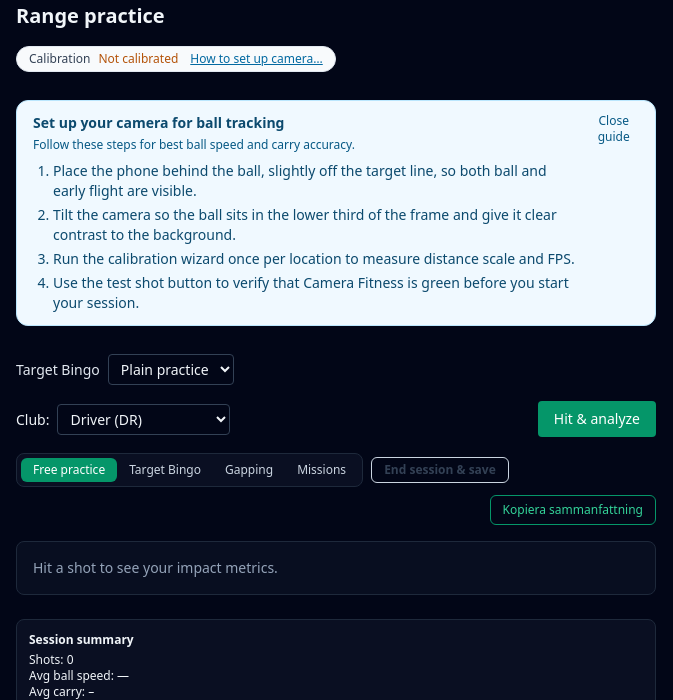
Scenario: Range practice Target Bingo v1 › tracks bingo hits and completed lines
Select "Target Bingo" in the dropdown labelled "Target Bingo" at (171, 370), box [108, 354, 234, 385]
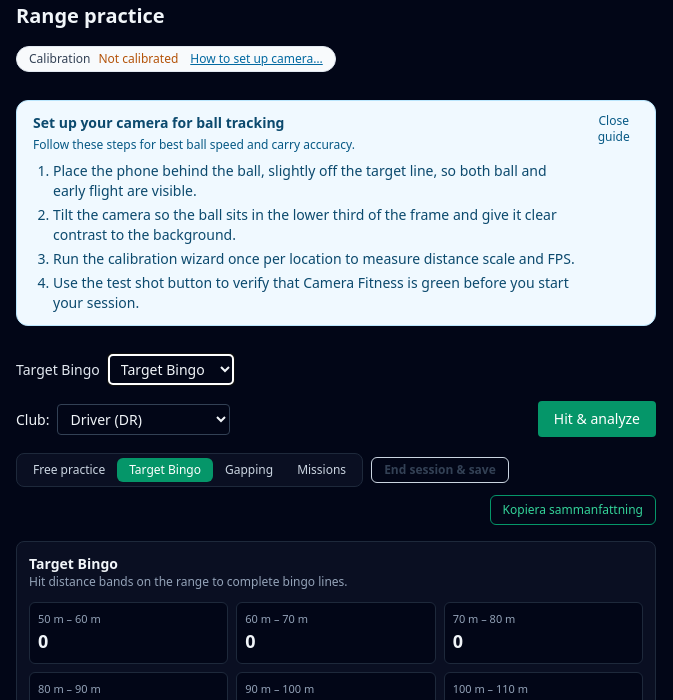
Click the button "Hit & analyze" at (597, 419), box [538, 401, 656, 437]
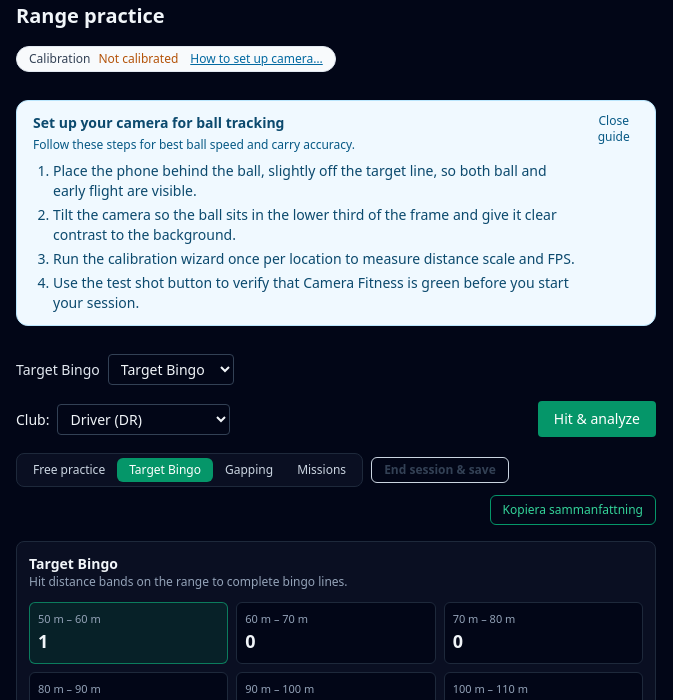
Click the button "Hit & analyze" at (597, 419), box [538, 401, 656, 437]
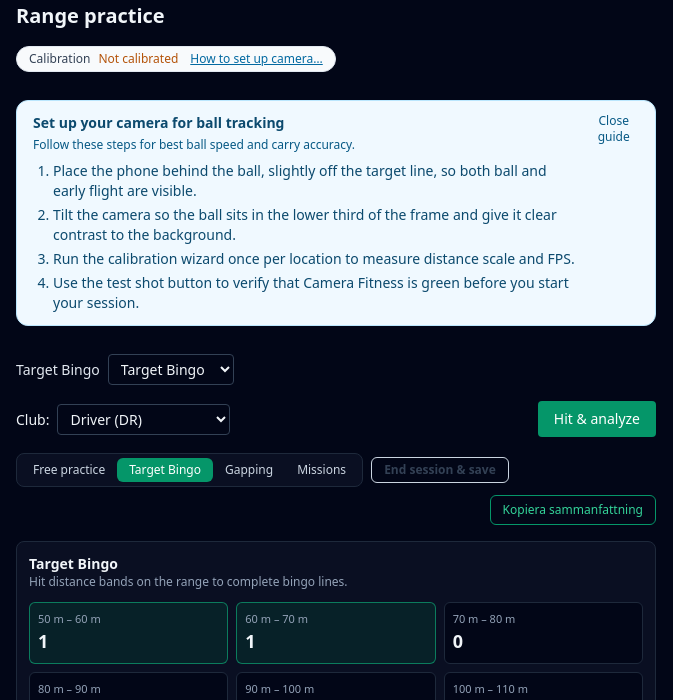
Click the button "Hit & analyze" at (597, 419), box [538, 401, 656, 437]
(page scrolled)
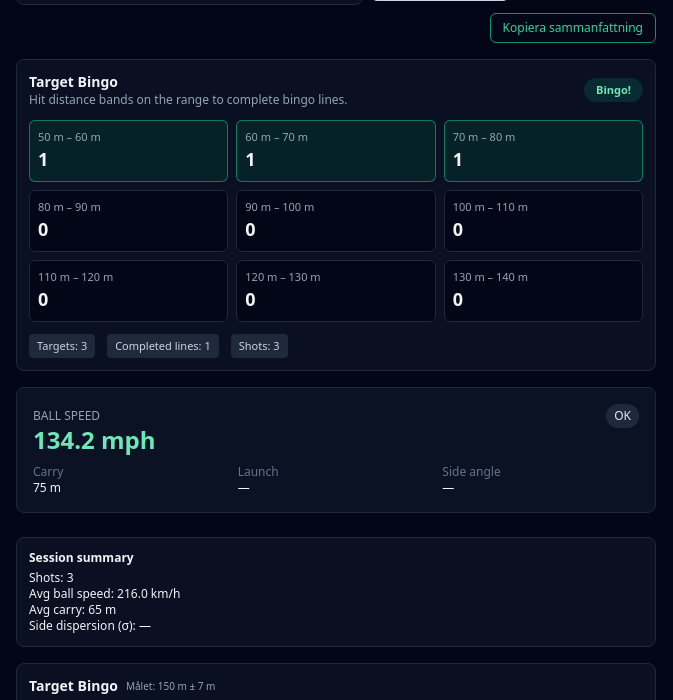
Result: the text "Completed lines: 1" is shown at [107, 334, 219, 358]
Result: the text with test id "bingo-lines" shows "1" at [115, 338, 211, 353]
Result: the text with test id "bingo-shots" shows "3" at [239, 338, 280, 353]
